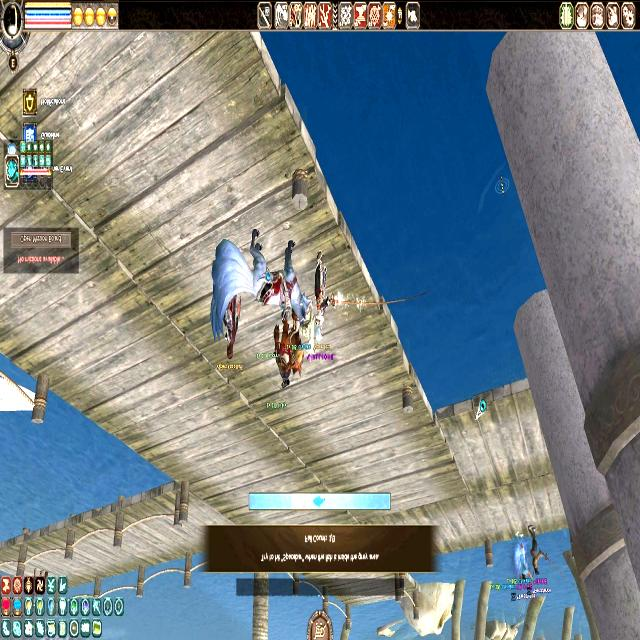box: (293, 492, 309, 510)
fishes: (312, 496, 326, 508)
